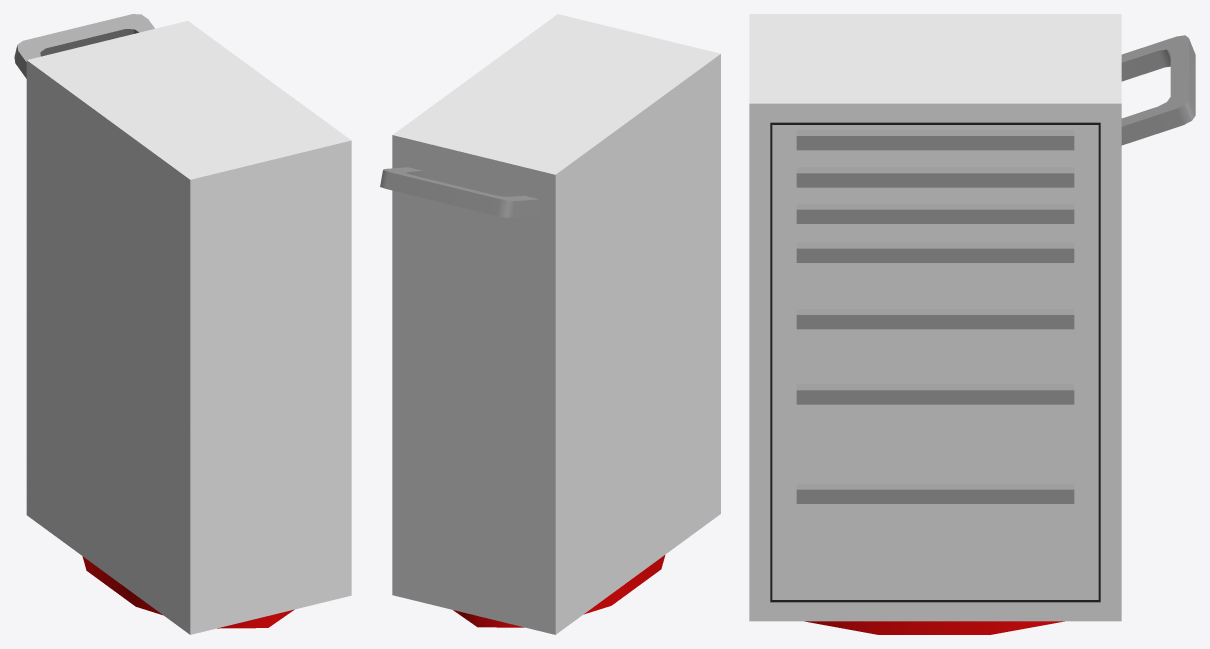
Rendered from HoverToolcart.fbx.
3 renders of one model, left to right at view 1: azimuth 30°, elevation 25°; view 2: azimuth 150°, elevation 25°; view 3: azimuth 270°, elevation 25°, orthographic. The views are drawn at different scales.
Visible parts, largest first — view 1: HoverToolCart_01; view 2: HoverToolCart_01; view 3: HoverToolCart_01.
Boxes of the visible parts, <box> form: HoverToolCart_01: <box>14,14,351,634</box>; HoverToolCart_01: <box>380,14,720,634</box>; HoverToolCart_01: <box>749,14,1195,634</box>.
Size of the model in its own units: 65.81 by 172 by 130.
